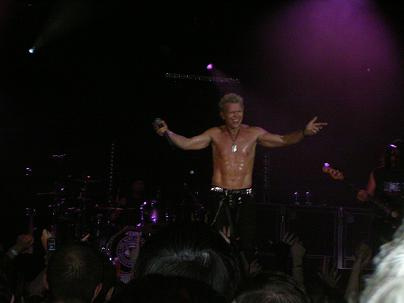person: (158, 93, 328, 241)
